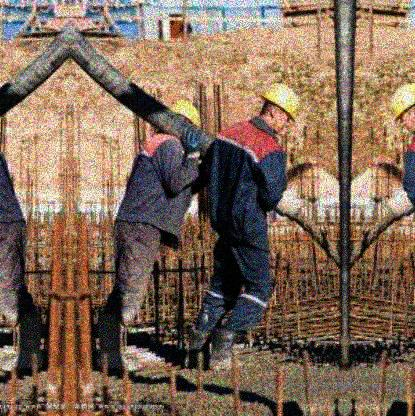helmet: (261, 80, 302, 131), (390, 81, 415, 131)
